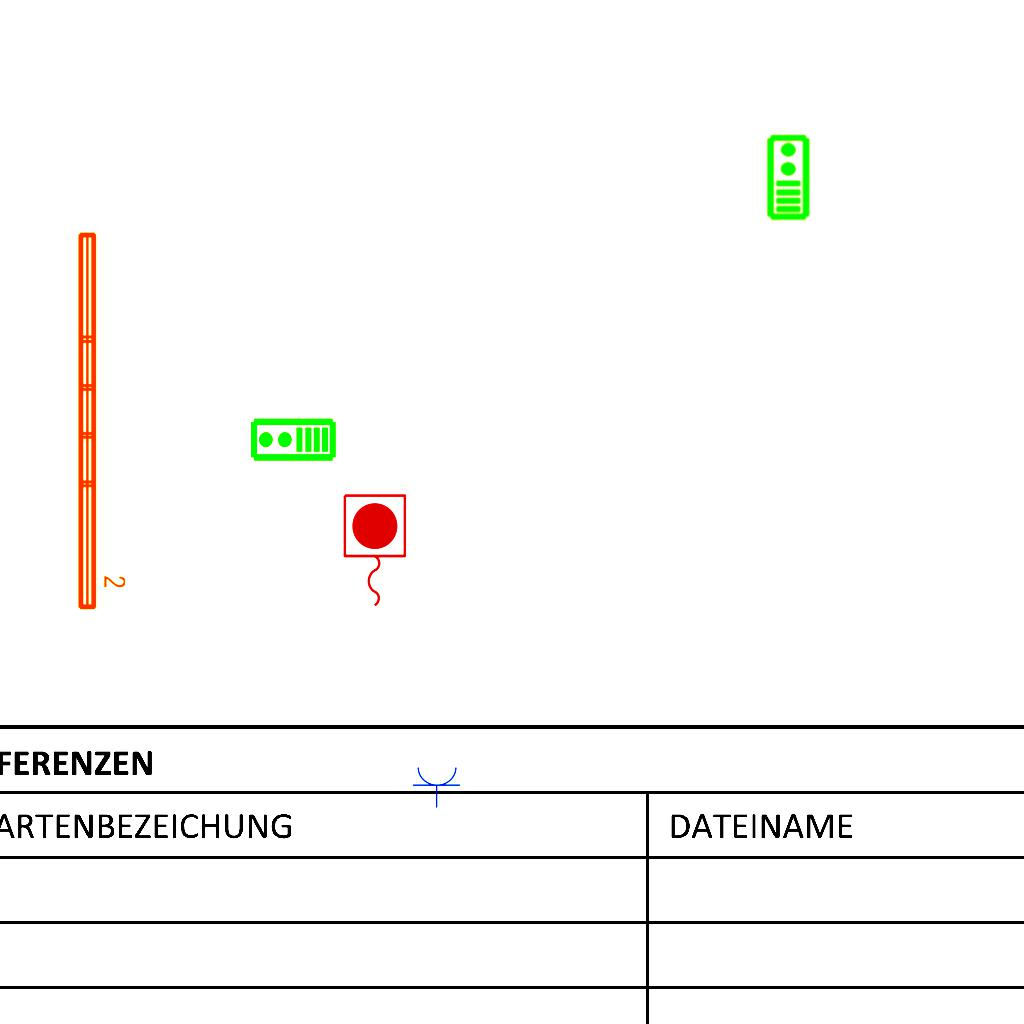Ambulanz_Pendelleuchte_LED: (72, 227, 128, 614)
Gegensprechanlage_mit_Video: (249, 417, 337, 464), (764, 133, 811, 221)
Schukosteckdose_einfach: (412, 765, 462, 808)
Zugtaster: (338, 490, 410, 612)
